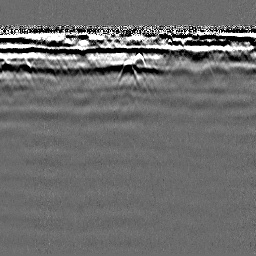cavity: (116, 57, 140, 87)
